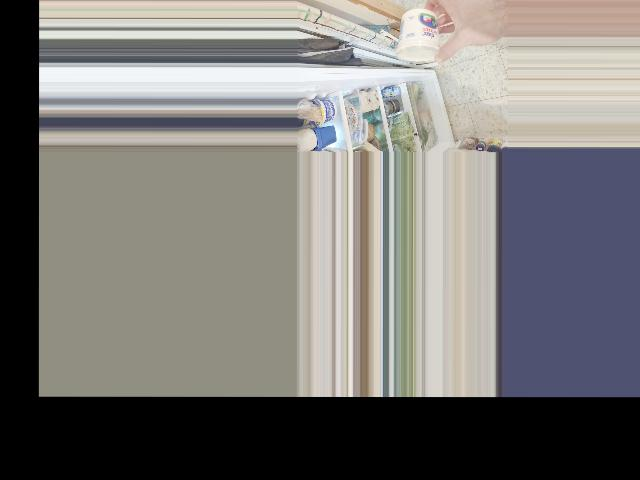cotage: (400, 12, 443, 59)
